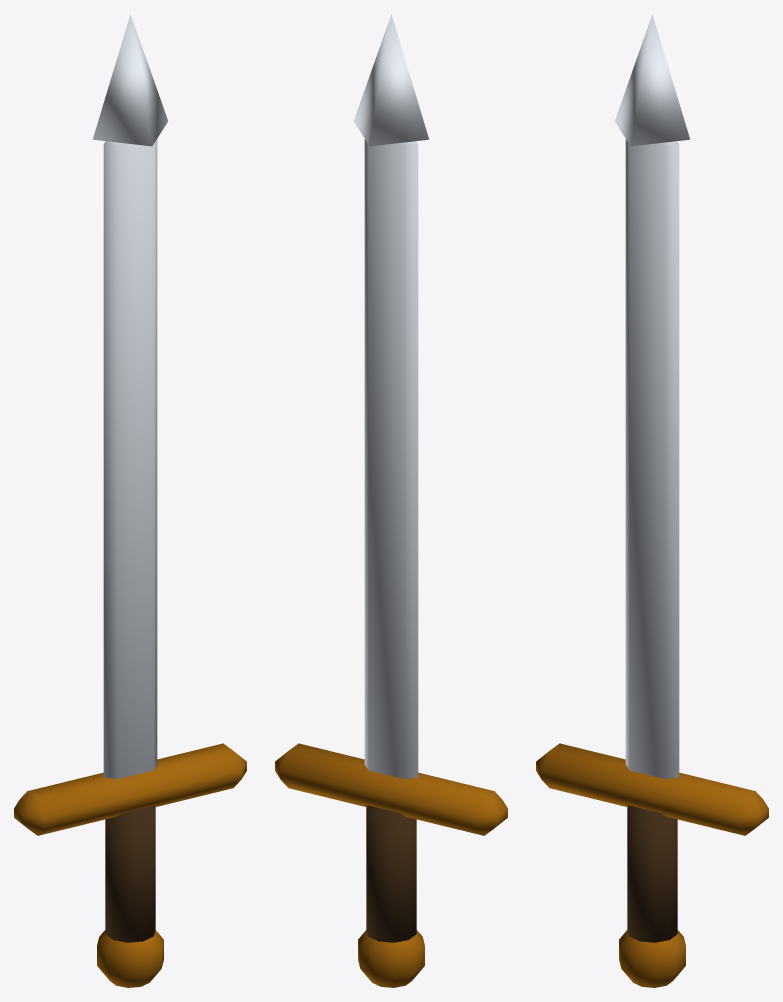
The model's file is sword.glb.
3 renders of one model, left to right at view 1: azimuth 30°, elevation 25°; view 2: azimuth 150°, elevation 25°; view 3: azimuth 330°, elevation 25°, orthographic.
Parts seen in each view (by area): view 1: Blade, Guard, Grip, Tip, Pommel; view 2: Blade, Guard, Grip, Tip, Pommel; view 3: Blade, Guard, Grip, Tip, Pommel.
Boxes of the visible parts, x1,y1,x2,y2 form: Blade: (103,139,157,778); Guard: (14,743,246,835); Grip: (105,805,155,942); Tip: (92,14,168,146); Pommel: (97,930,163,987); Blade: (364,139,418,778); Guard: (275,743,507,835); Grip: (366,805,416,942); Tip: (353,14,429,146); Pommel: (358,930,424,987); Blade: (625,139,679,778); Guard: (536,743,768,835); Grip: (627,805,677,942); Tip: (614,14,690,146); Pommel: (619,930,685,987).
Bounding box in the file's own units: 0.5 × 2.09 × 0.17.
